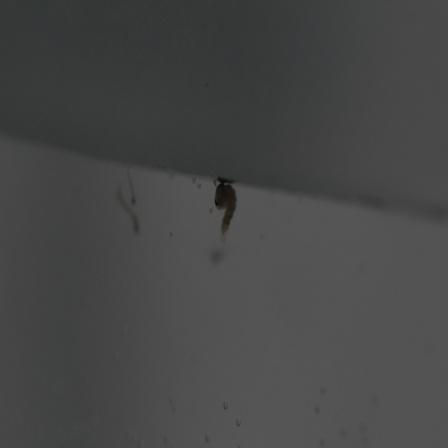Jentik-Nyamuk: (208, 177, 241, 237)
